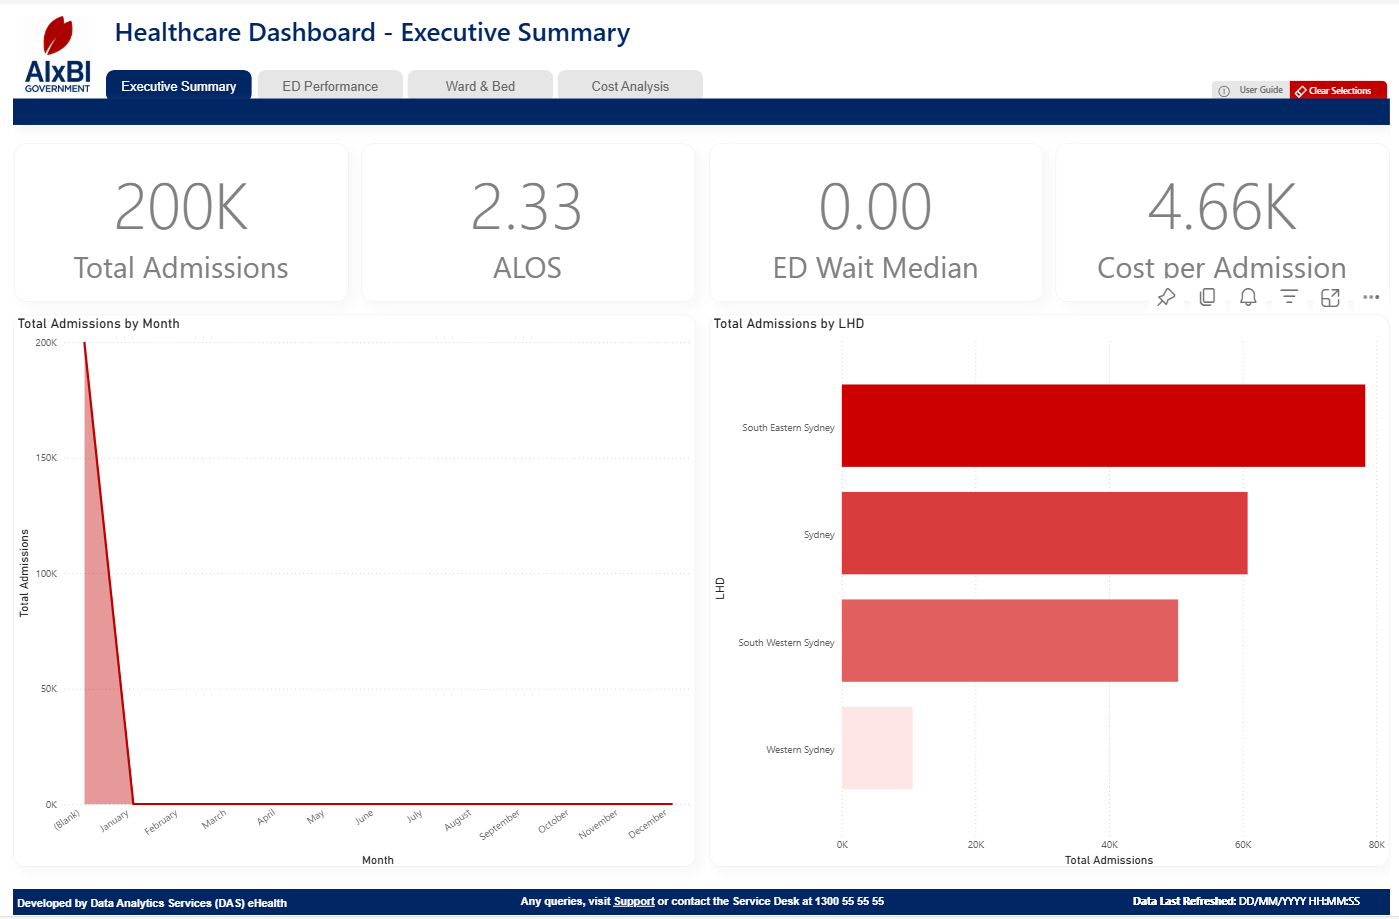

What the dashboard file says about the page in this screenshot:
{"tool":"powerbi","page":{"name":"Executive Summary","canvas":[1700,1126],"ordinal":0},"visuals":[{"type":"image","box":[5,15,100,95],"z":0},{"type":"textbox","box":[0,1093,531.2,31.1],"z":0,"group":"g1"},{"type":"textbox","box":[120,5,798.3,58.3],"z":1000,"group":"g2"},{"type":"textbox","box":[1.4,1092,1698.6,31.4],"z":1000,"group":"g1"},{"type":"actionButton","title":"User Button","box":[1479.4,95.3,107.8,25],"z":2000},{"type":"actionButton","title":"Clear Button","box":[1575.7,95,120.7,25.6],"z":3000},{"type":"group","id":"g1","title":"Footer Group","box":[0,1092,1700,32],"z":5000},{"type":"group","id":"g2","title":"Page Header","box":[120,5,798.3,58.3],"z":6000},{"type":"actionButton","title":"Account Button","box":[114.2,81.7,180,40],"z":7000},{"type":"actionButton","title":"Account Button","box":[302,81.7,180,40],"z":8000},{"type":"textbox","box":[1377.1,1092.9,322.9,31.4],"z":9000},{"type":"actionButton","title":"Account Button","box":[487.1,81.7,180,40],"z":10000},{"type":"actionButton","title":"Account Button","box":[672.3,81.5,180,40],"z":11000},{"type":"shape","box":[0,115.8,1700,32.9],"z":12000},{"type":"textbox","box":[1377.1,1092.9,322.9,31.4],"z":13000},{"type":"cardVisual","fields":{"Data":["fact_admissions.Total Admissions"]},"box":[1.4,172,412.5,195],"z":14000},{"type":"cardVisual","fields":{"Data":["fact_admissions.ALOS"]},"box":[430.5,172,412.5,195],"z":15000},{"type":"cardVisual","fields":{"Data":["fact_admissions.ED Wait Median"]},"box":[859.7,172,412.5,195],"z":16000},{"type":"cardVisual","fields":{"Data":["fact_admissions.Cost per Admission"]},"box":[1287.5,172,412.5,195],"z":17000},{"type":"areaChart","fields":{"Category":["dim_date.month_name"],"Y":["fact_admissions.Total Admissions"]},"box":[0,383.3,843.3,681.7],"z":18000},{"type":"clusteredBarChart","fields":{"Category":["dim_ward.lhd"],"Y":["fact_admissions.Total Admissions"]},"box":[860,383.3,840,681.7],"z":19000}]}

Visuals, with their boxes in screenshot pixels (x1, y1, x2, y2), scaled from the page's 1700x1126 canvas onto the 1399x919 screenshot:
image: bbox=[4, 12, 86, 90]
textbox: bbox=[0, 892, 437, 917]
textbox: bbox=[99, 4, 756, 52]
textbox: bbox=[1, 891, 1398, 917]
"User Button" actionButton: bbox=[1217, 78, 1306, 98]
"Clear Button" actionButton: bbox=[1297, 78, 1396, 98]
"Footer Group" group: bbox=[0, 891, 1398, 917]
"Page Header" group: bbox=[99, 4, 756, 52]
"Account Button" actionButton: bbox=[94, 67, 242, 99]
"Account Button" actionButton: bbox=[249, 67, 397, 99]
textbox: bbox=[1133, 892, 1398, 918]
"Account Button" actionButton: bbox=[401, 67, 549, 99]
"Account Button" actionButton: bbox=[553, 67, 701, 99]
shape: bbox=[0, 95, 1398, 121]
textbox: bbox=[1133, 892, 1398, 918]
cardVisual - fact_admissions.Total Admissions: bbox=[1, 140, 341, 300]
cardVisual - fact_admissions.ALOS: bbox=[354, 140, 694, 300]
cardVisual - fact_admissions.ED Wait Median: bbox=[707, 140, 1047, 300]
cardVisual - fact_admissions.Cost per Admission: bbox=[1060, 140, 1398, 300]
areaChart - dim_date.month_name x fact_admissions.Total Admissions: bbox=[0, 313, 694, 869]
clusteredBarChart - dim_ward.lhd x fact_admissions.Total Admissions: bbox=[708, 313, 1398, 869]
